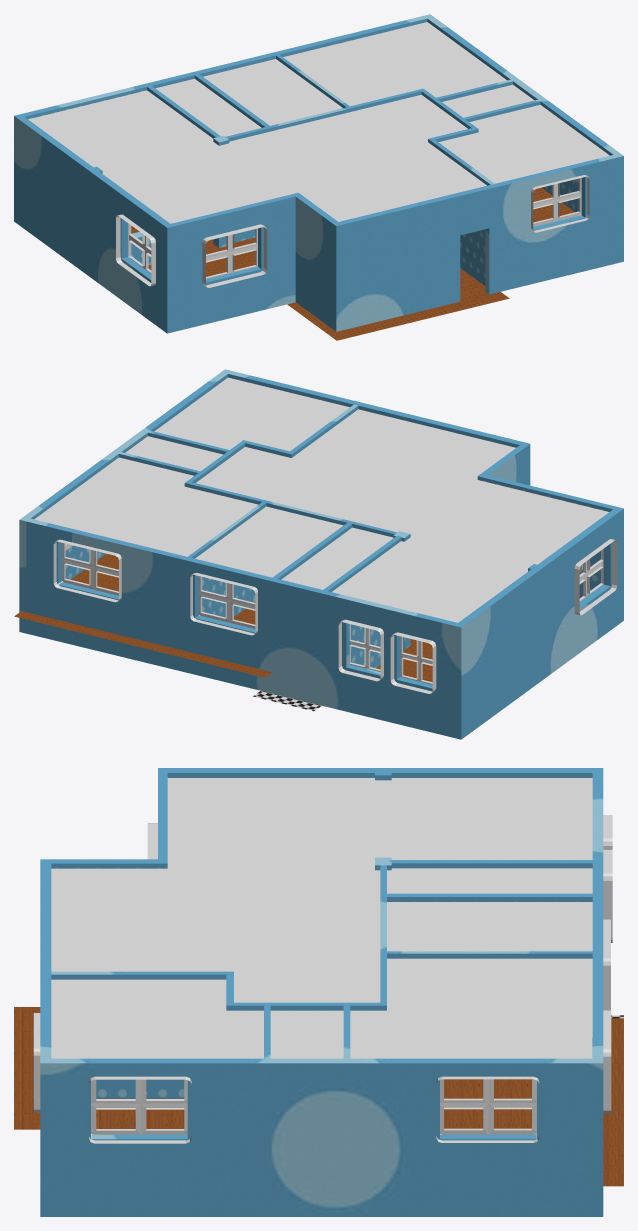
The model's file is House_01.fbx.
The picture shows the model from 3 angles, top to bottom: view 1: azimuth 30°, elevation 25°; view 2: azimuth 150°, elevation 25°; view 3: azimuth 270°, elevation 25°; orthographic projection. The views are drawn at different scales.
Parts seen in each view (by area): view 1: Walls, Roof, Windows, Floor; view 2: Walls, Roof, Windows, Floor; view 3: Roof, Walls, Windows, Floor.
Boxes of the visible parts, left/top/right/bottom form: Walls: left=14, top=14, right=623, bottom=333; Roof: left=28, top=22, right=609, bottom=223; Windows: left=116, top=175, right=589, bottom=287; Floor: left=131, top=187, right=574, bottom=340; Walls: left=19, top=369, right=623, bottom=739; Roof: left=34, top=377, right=608, bottom=622; Windows: left=53, top=539, right=617, bottom=693; Floor: left=14, top=553, right=432, bottom=682; Roof: left=51, top=778, right=592, bottom=1058; Walls: left=40, top=768, right=603, bottom=1216; Windows: left=33, top=815, right=612, bottom=1143; Floor: left=14, top=1007, right=623, bottom=1186.
Bounding box in the file's own units: 1474 × 356 × 1260.
